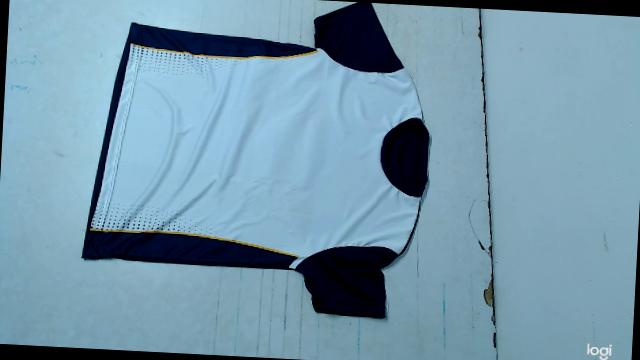new-garment: (82, 2, 429, 317)
